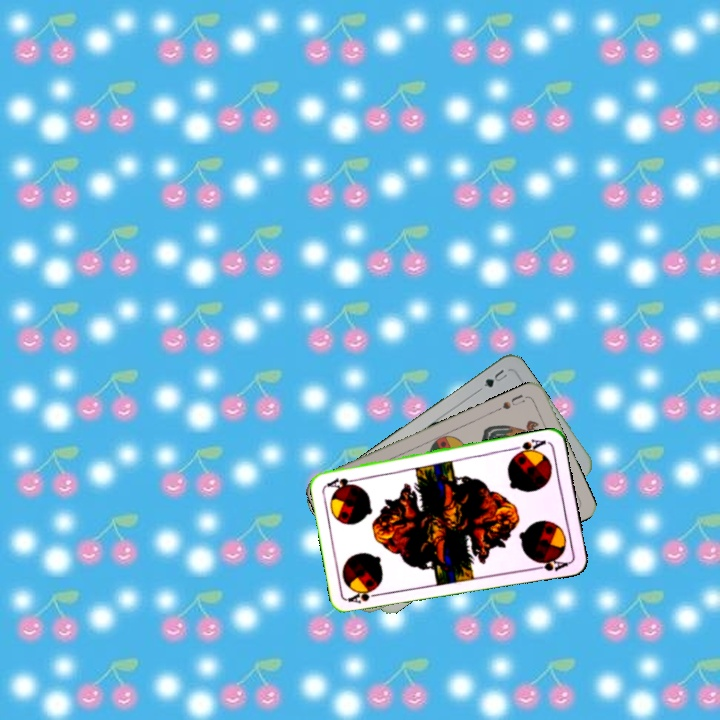GU: (480, 365, 510, 390)
SA: (509, 435, 549, 458), (344, 585, 385, 606)
SU: (492, 390, 527, 414)
